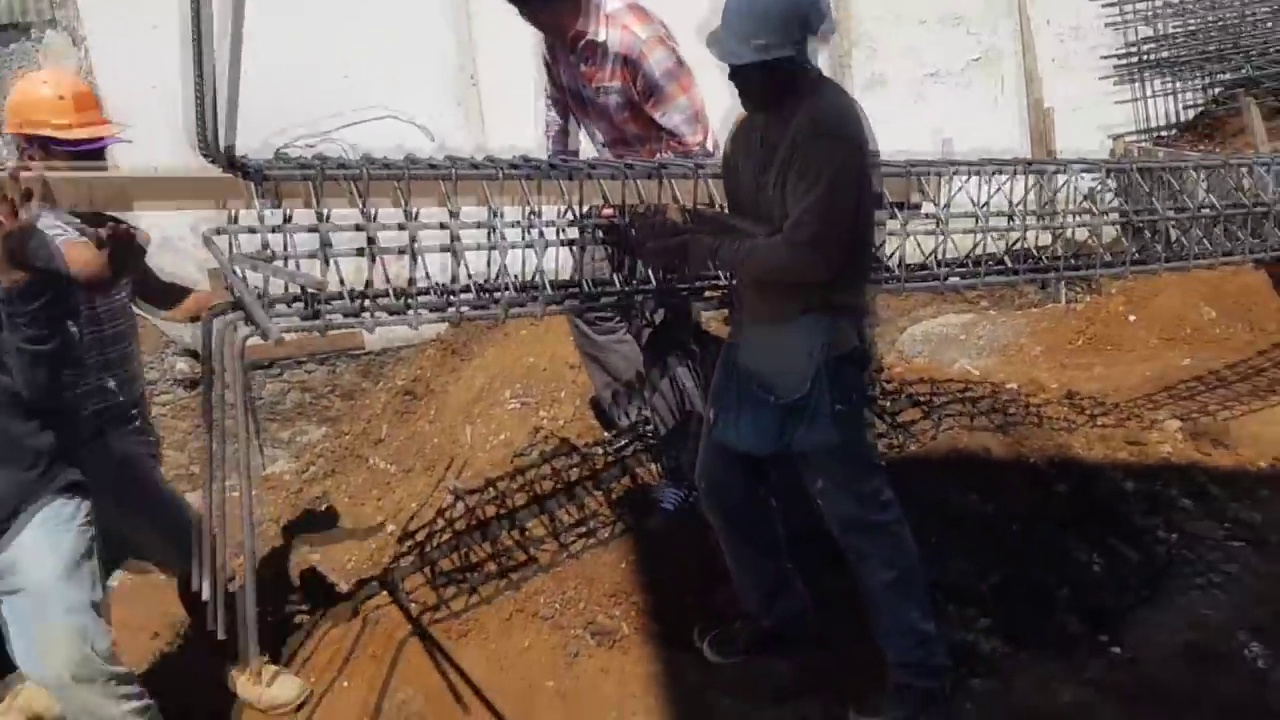helmet: (5, 37, 122, 145), (716, 7, 818, 78)
helmet-off: (498, 0, 591, 52)
helmet-on: (0, 27, 127, 225), (710, 5, 830, 140)
person: (5, 26, 313, 716), (649, 0, 944, 710), (498, 3, 715, 544)
